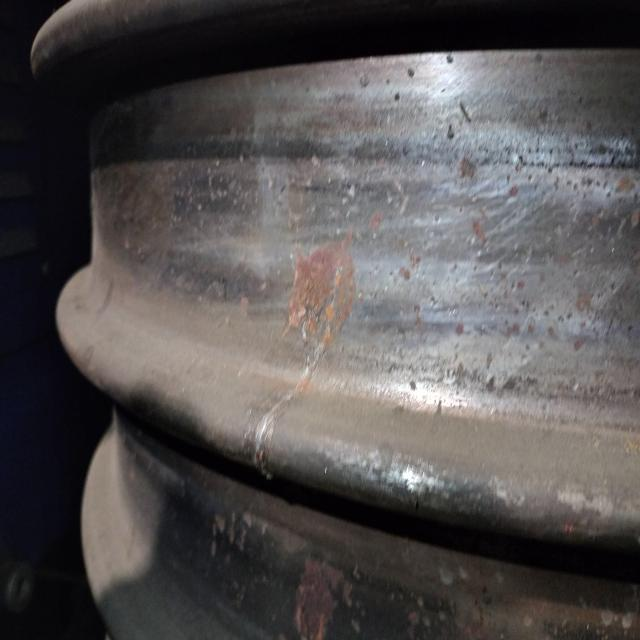Out_Of_Roundness: (258, 385, 287, 498)
